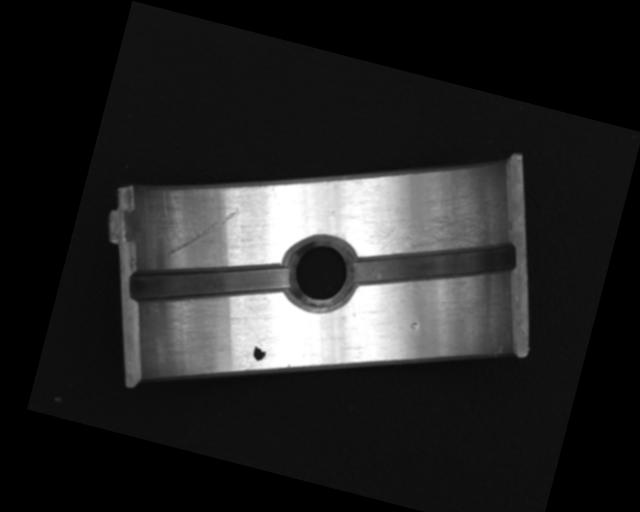blot: (250, 340, 269, 363)
bruise: (408, 320, 420, 331)
gap: (349, 208, 517, 320), (125, 229, 293, 337)
hole: (278, 230, 362, 320)
nick: (166, 193, 240, 269)
scratch: (362, 167, 508, 281)
